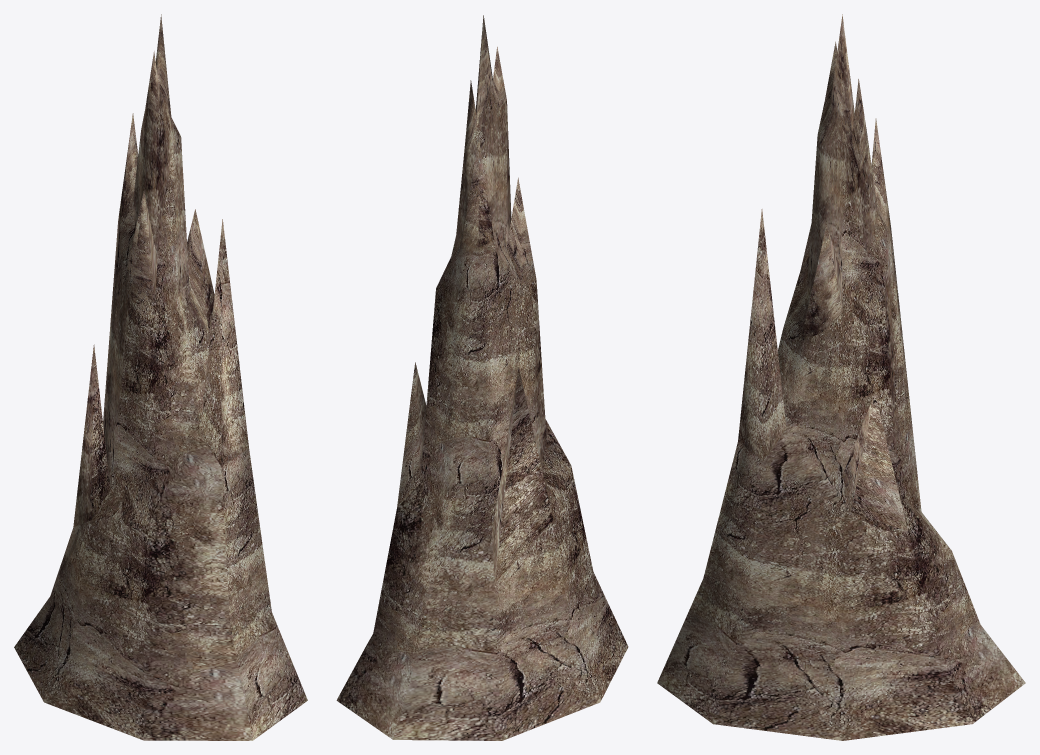
File: stalactite_large1.fbx
The picture shows the model from 3 angles, left to right: view 1: azimuth 30°, elevation 25°; view 2: azimuth 150°, elevation 25°; view 3: azimuth 270°, elevation 25°; orthographic projection.
Visible parts, largest first — view 1: mesh_0; view 2: mesh_0; view 3: mesh_0.
Boxes of the visible parts, x1,y1,x2,y2 form: mesh_0: (14, 14, 307, 740); mesh_0: (336, 15, 628, 740); mesh_0: (657, 14, 1025, 740).
Bounding box in the file's own units: 112 × 301 × 150.
1 material, 1 textured.
